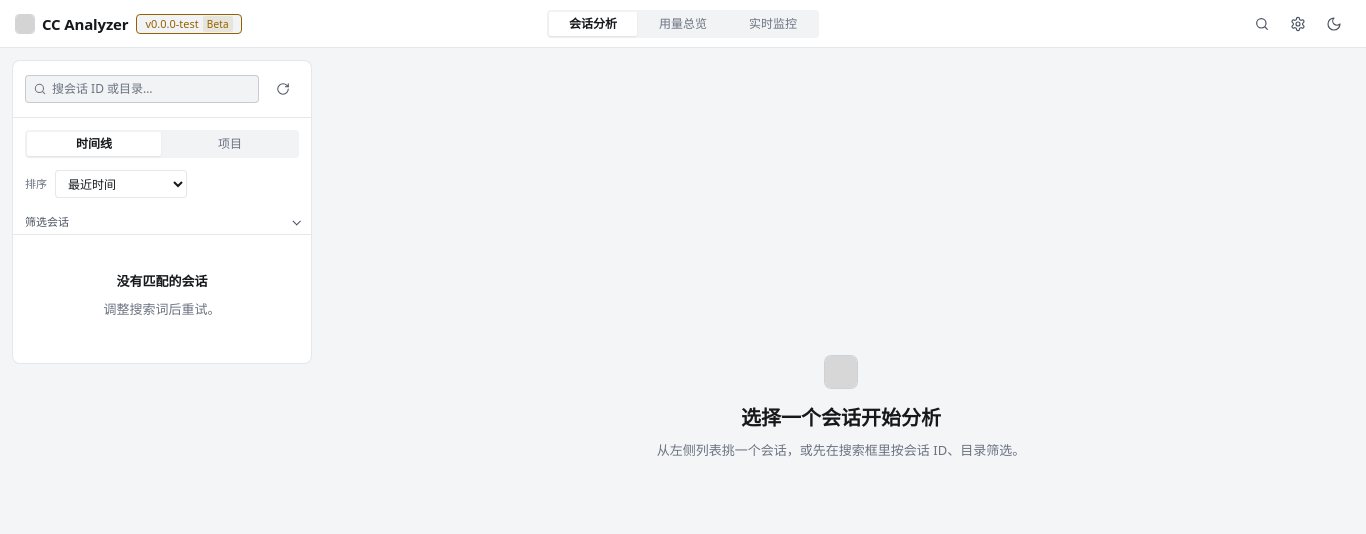
Test: 未知的监控子视图存值回落到脉搏
Click the tab "实时监控".
click(773, 24)  # box 729,12 -> 817,36
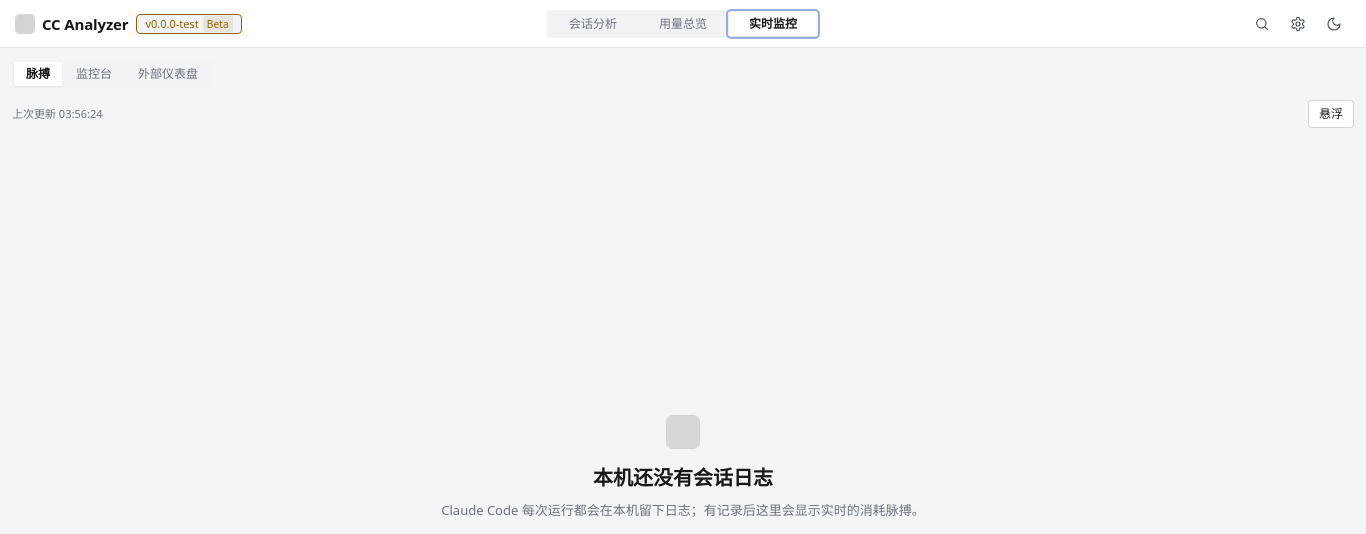
Check: the tab "脉搏" is shown, box 14,62 -> 62,86
